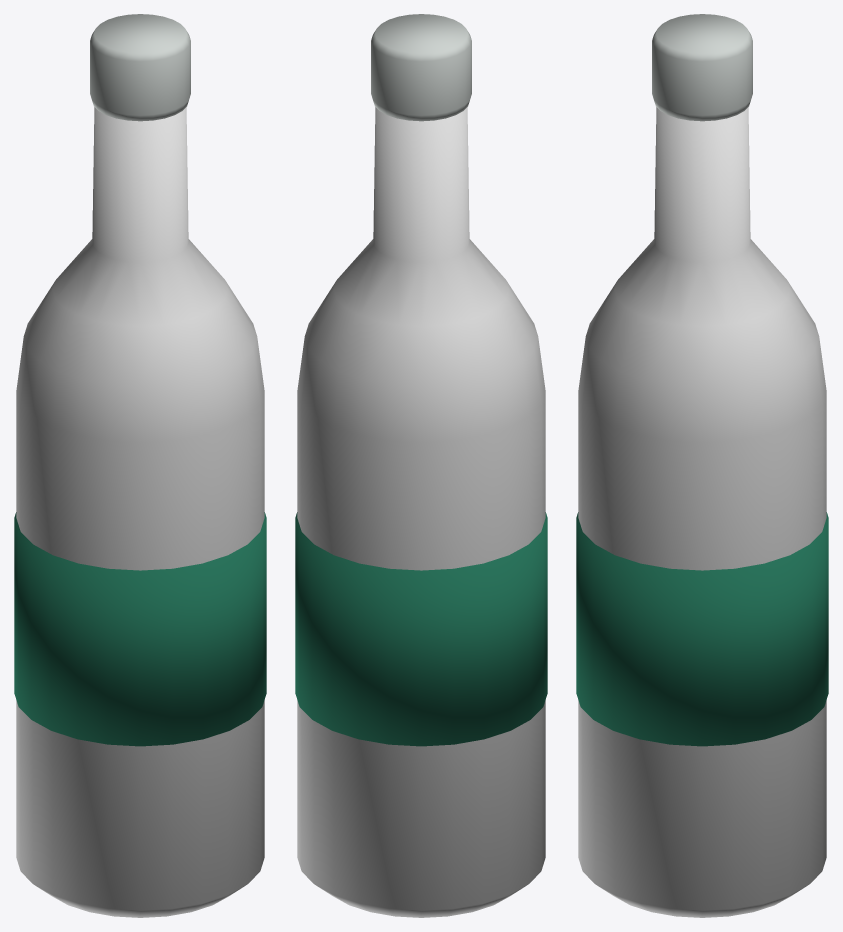
The model's file is wine-bottle.glb.
The picture shows the model from 3 angles, left to right: view 1: azimuth 30°, elevation 25°; view 2: azimuth 150°, elevation 25°; view 3: azimuth 270°, elevation 25°; orthographic projection.
Visible parts, largest first — view 1: body, band, cap; view 2: body, band, cap; view 3: body, band, cap.
Part boxes in pixels (bbox=[...]): body: bbox=[16, 107, 264, 917]; band: bbox=[14, 512, 266, 746]; cap: bbox=[90, 14, 190, 121]; body: bbox=[297, 107, 545, 917]; band: bbox=[295, 512, 547, 746]; cap: bbox=[371, 14, 471, 121]; body: bbox=[578, 107, 826, 917]; band: bbox=[576, 512, 828, 746]; cap: bbox=[652, 14, 752, 121].
Bounding box in the file's own units: 0.34 × 1.25 × 0.34.
